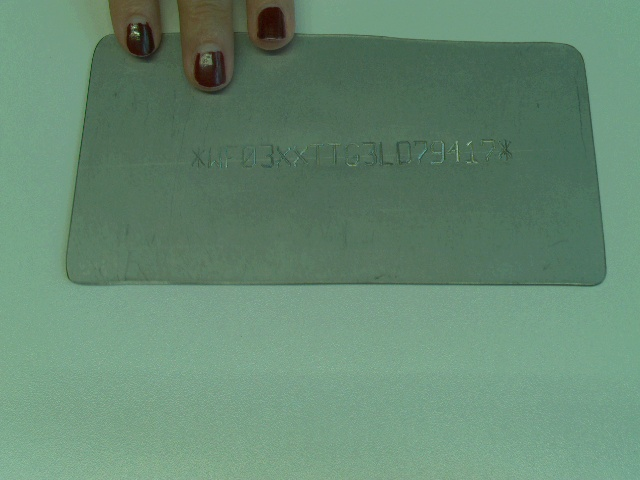0: (239, 144, 257, 168)
1: (464, 138, 480, 165)
3: (259, 143, 277, 169), (361, 141, 379, 167)
4: (446, 138, 464, 166)
7: (412, 138, 430, 166), (479, 137, 497, 164)
9: (430, 139, 447, 166)
d: (395, 139, 413, 164)
f: (223, 144, 238, 168)
g: (343, 142, 361, 167)
l: (378, 141, 394, 168)
t: (326, 141, 343, 166), (309, 141, 325, 167)
w: (206, 143, 223, 169)
x: (293, 143, 310, 167), (276, 144, 292, 169)
